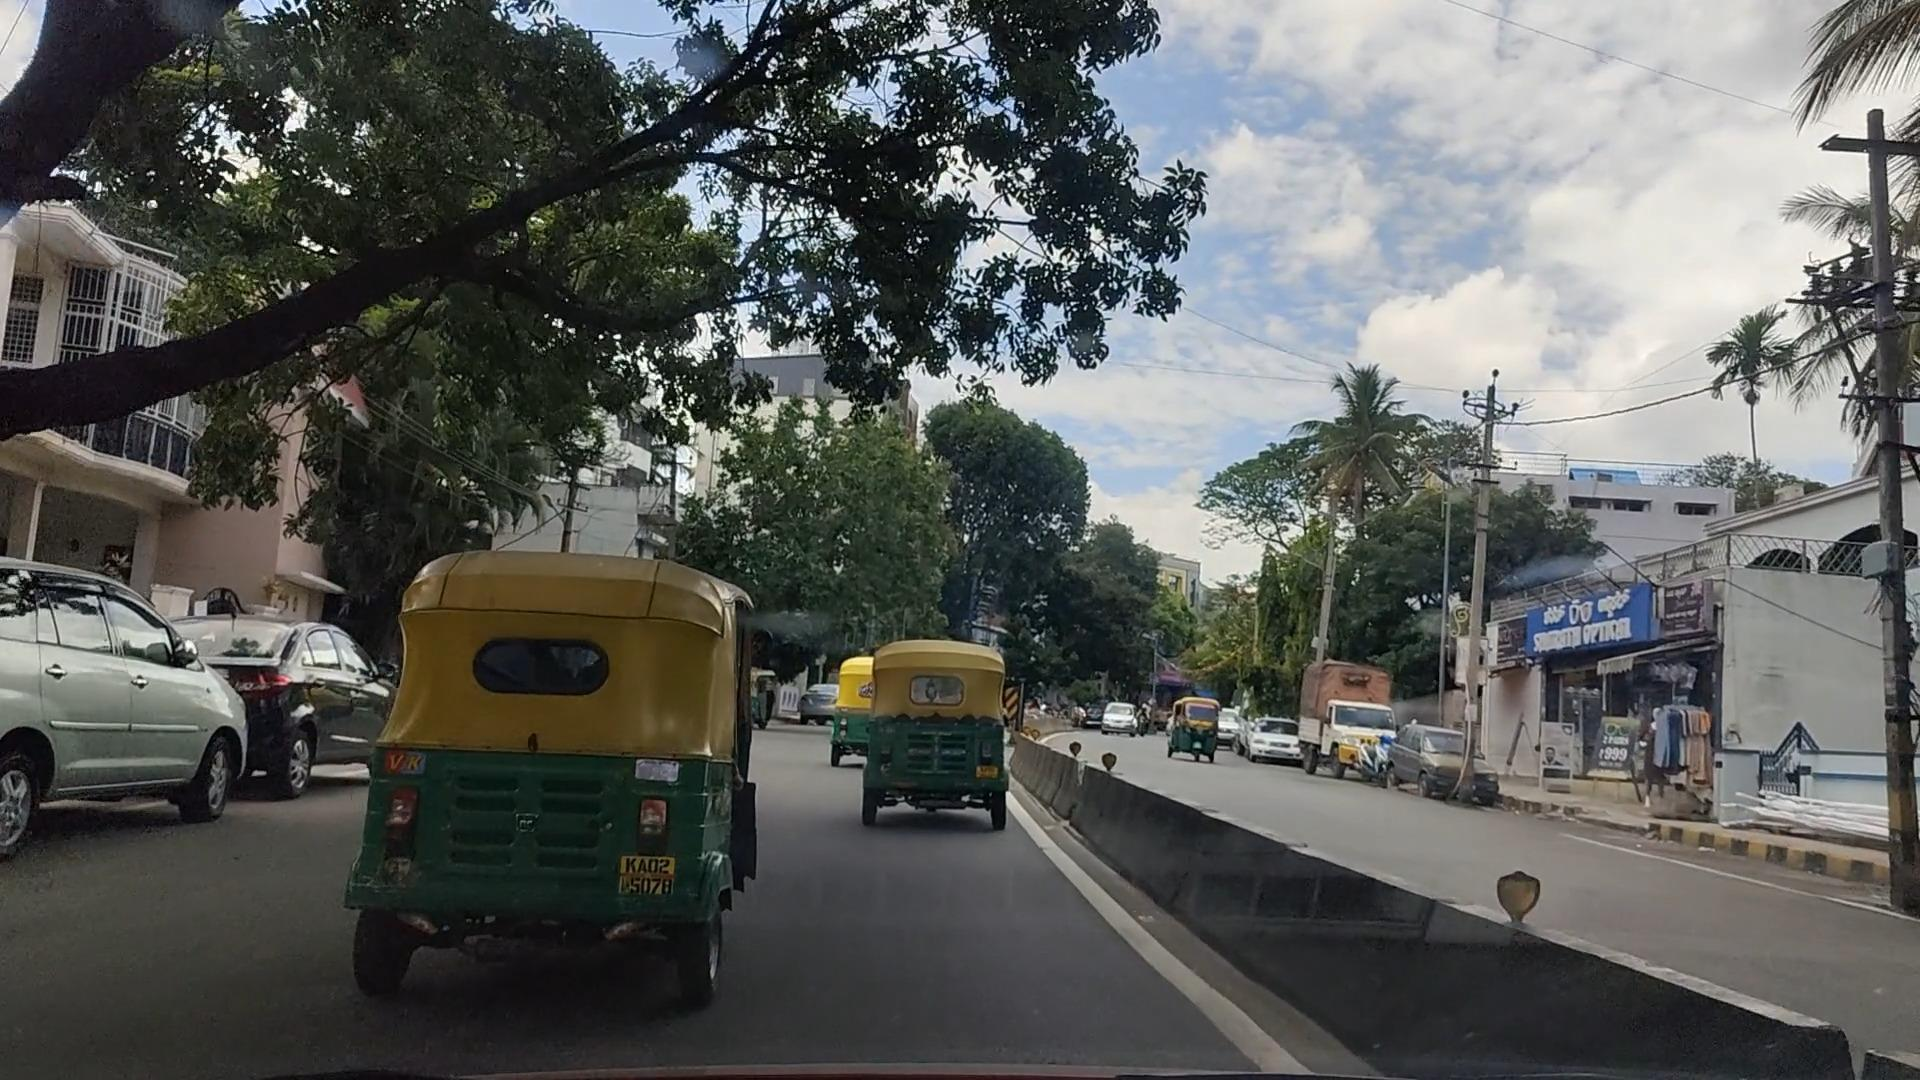LMV: (363, 510, 736, 1005), (0, 575, 265, 881), (848, 647, 1034, 832), (200, 608, 384, 793)
